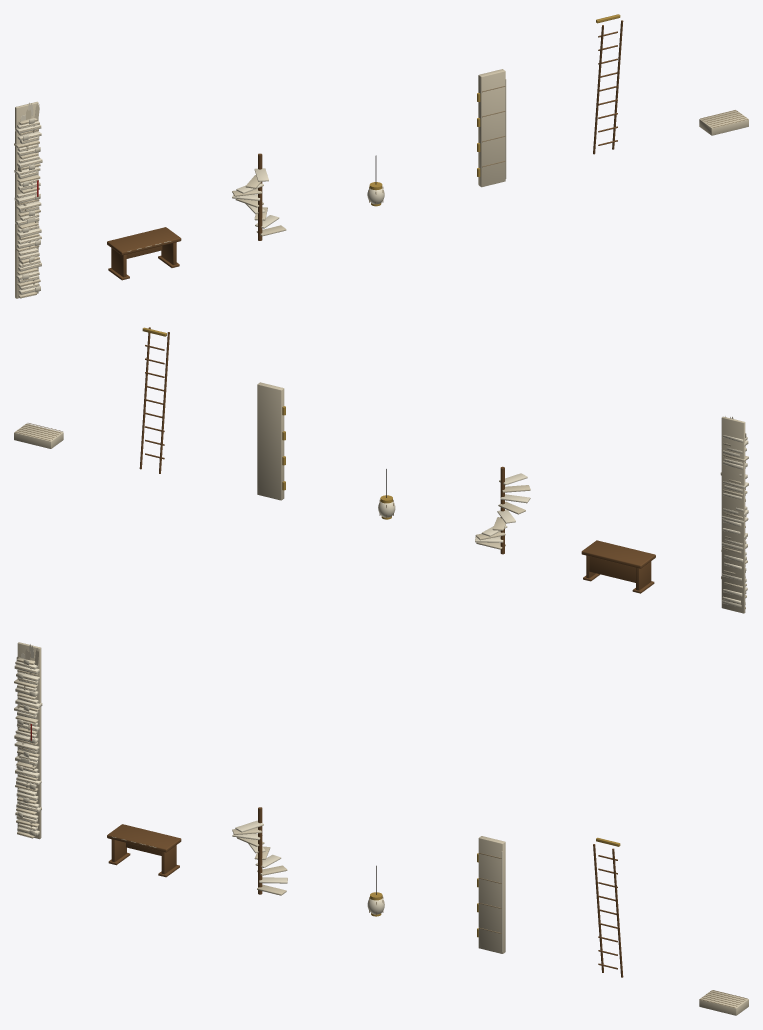
3 renders of one model, top to bottom at view 1: azimuth 30°, elevation 25°; view 2: azimuth 150°, elevation 25°; view 3: azimuth 330°, elevation 25°, orthographic.
Parts seen in each view (by area): view 1: compressed_thin_page_sheaves, hinged_panel, desk_top, dense_compressed_page_edges, stack_back, cap_compressed_pages, slipped_signatures_and_cards; view 2: stack_back, hinged_panel, compressed_thin_page_sheaves, desk_top, cap_compressed_pages, desk_modesty; view 3: compressed_thin_page_sheaves, hinged_panel, desk_top, dense_compressed_page_edges, stack_back, cap_compressed_pages.
Part boxes in pixels (x1,y1,x2,y2): compressed_thin_page_sheaves: (14, 117, 42, 298); hinged_panel: (478, 69, 505, 187); desk_top: (107, 227, 181, 255); dense_compressed_page_edges: (19, 120, 41, 297); stack_back: (15, 101, 38, 298); cap_compressed_pages: (699, 110, 748, 135); slipped_signatures_and_cards: (18, 118, 40, 292); stack_back: (721, 416, 745, 613); hinged_panel: (257, 382, 284, 500); compressed_thin_page_sheaves: (720, 433, 748, 608); desk_top: (581, 540, 655, 568); cap_compressed_pages: (14, 423, 63, 448); desk_modesty: (589, 556, 635, 582); compressed_thin_page_sheaves: (14, 657, 42, 838); hinged_panel: (478, 836, 505, 953); desk_top: (107, 824, 181, 852); dense_compressed_page_edges: (14, 660, 37, 837); stack_back: (17, 642, 41, 839); cap_compressed_pages: (699, 990, 748, 1015).
Bounding box in the file's own units: 21.3 × 5.42 × 1.41.
